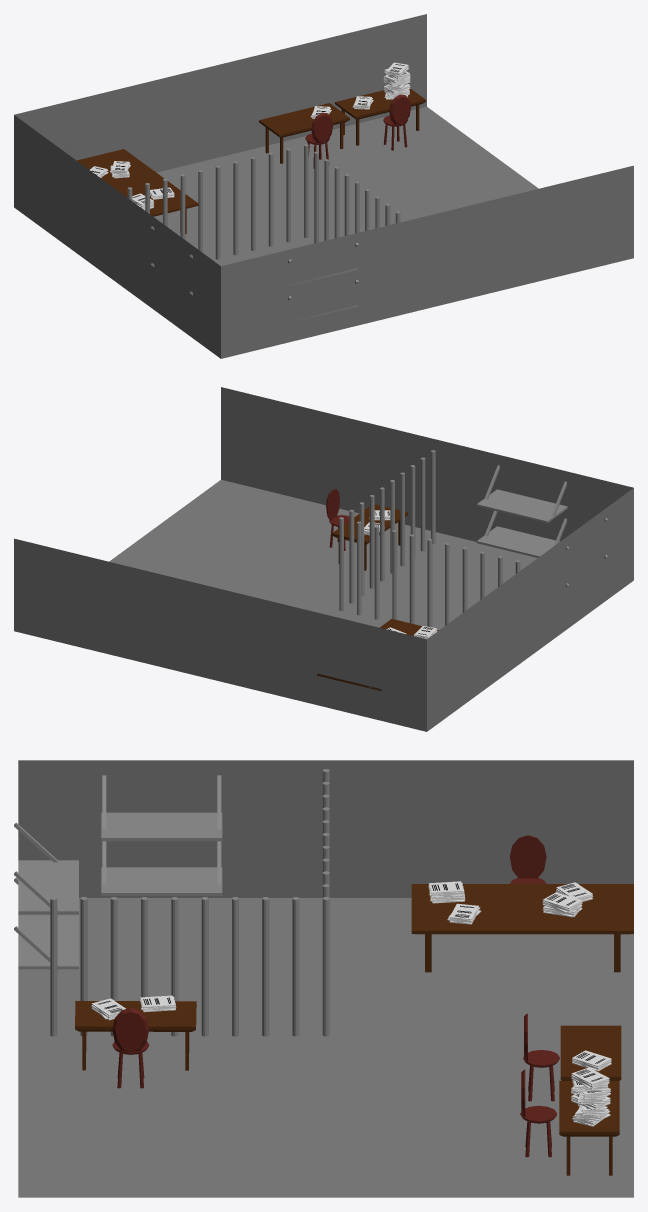
The model's file is шаблон тюрьма (1).fbx.
3 views of the same model, one above another, from view 1: azimuth 30°, elevation 25°; view 2: azimuth 150°, elevation 25°; view 3: azimuth 270°, elevation 25° (orthographic). The views are drawn at different scales.
Visible parts, largest first — view 1: Балка.004, Цилиндр.021, Куб.003, Куб.001, Куб.002, Цилиндр.003, Цилиндр.001; view 2: Балка.004, Цилиндр.021, Куб.004, Куб.009, Цилиндр.002, Куб.003; view 3: Балка.004, Куб.004, Цилиндр.021, Куб.003, Куб.009, Куб.001, Куб.002, Цилиндр.002, Цилиндр.030, Цилиндр.003, Цилиндр.001.
Boxes of the visible parts, x1,y1,x2,y2 form: Балка.004: [14, 14, 633, 358]; Цилиндр.021: [127, 144, 400, 259]; Куб.003: [77, 149, 198, 233]; Куб.001: [259, 103, 349, 163]; Куб.002: [335, 88, 425, 145]; Цилиндр.003: [383, 94, 410, 150]; Цилиндр.001: [305, 112, 333, 168]; Балка.004: [14, 387, 633, 731]; Цилиндр.021: [339, 450, 520, 627]; Куб.004: [476, 465, 607, 587]; Куб.009: [332, 504, 408, 570]; Цилиндр.002: [326, 489, 349, 550]; Куб.003: [317, 619, 438, 690]; Балка.004: [18, 760, 633, 1197]; Куб.004: [14, 775, 222, 969]; Цилиндр.021: [50, 769, 329, 1036]; Куб.003: [411, 884, 633, 972]; Куб.009: [75, 1001, 196, 1070]; Куб.001: [560, 1025, 621, 1080]; Куб.002: [559, 1080, 619, 1175]; Цилиндр.002: [112, 1007, 149, 1088]; Цилиндр.030: [510, 835, 546, 883]; Цилиндр.003: [520, 1069, 556, 1157]; Цилиндр.001: [523, 1014, 559, 1101].
Size of the model in its own units: 2354 by 502 by 2048.
